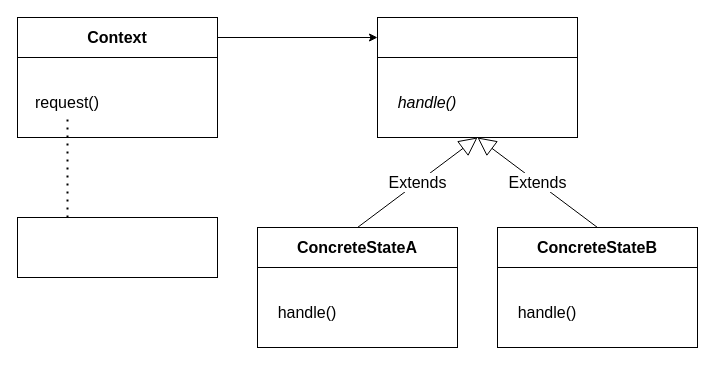
This 715x365 diagram has some shape labels left out. The centre of each missing label's shape, as x and y in pixels:
State: the point at 477,37
state.handle(): the point at 117,247
